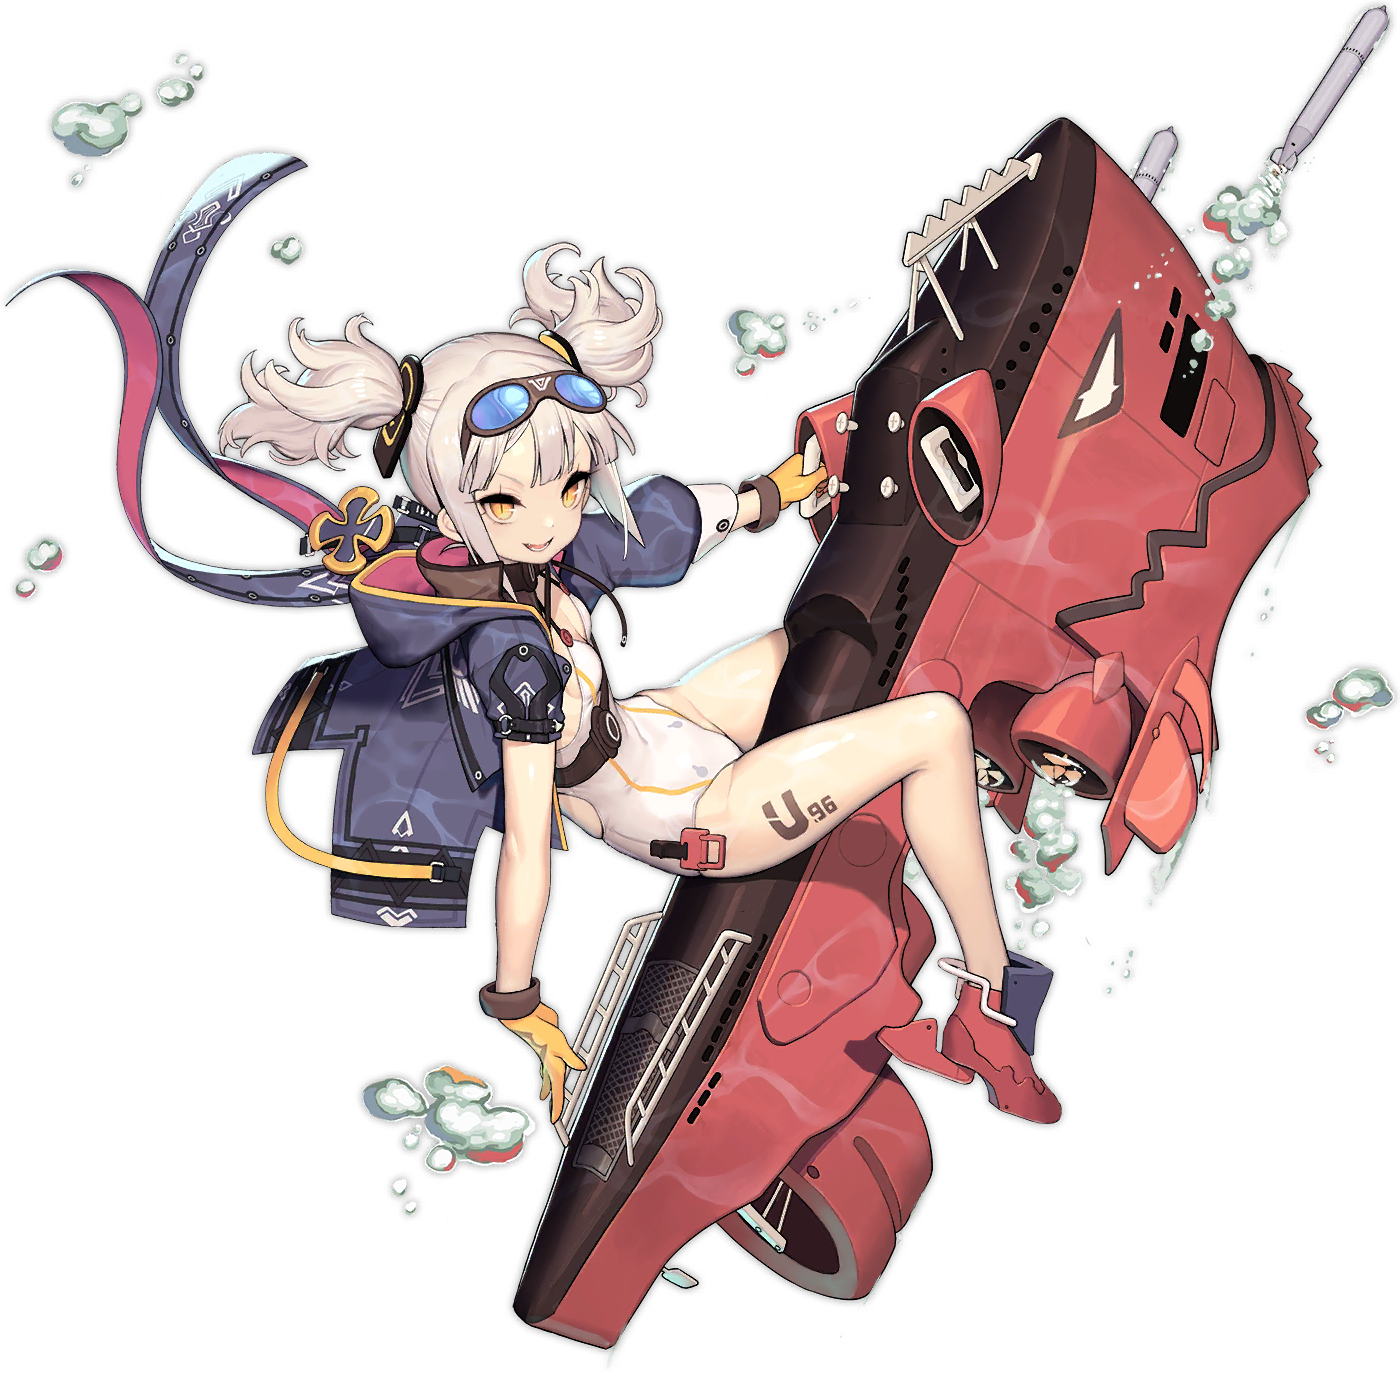person: (211, 273, 1063, 1112)
